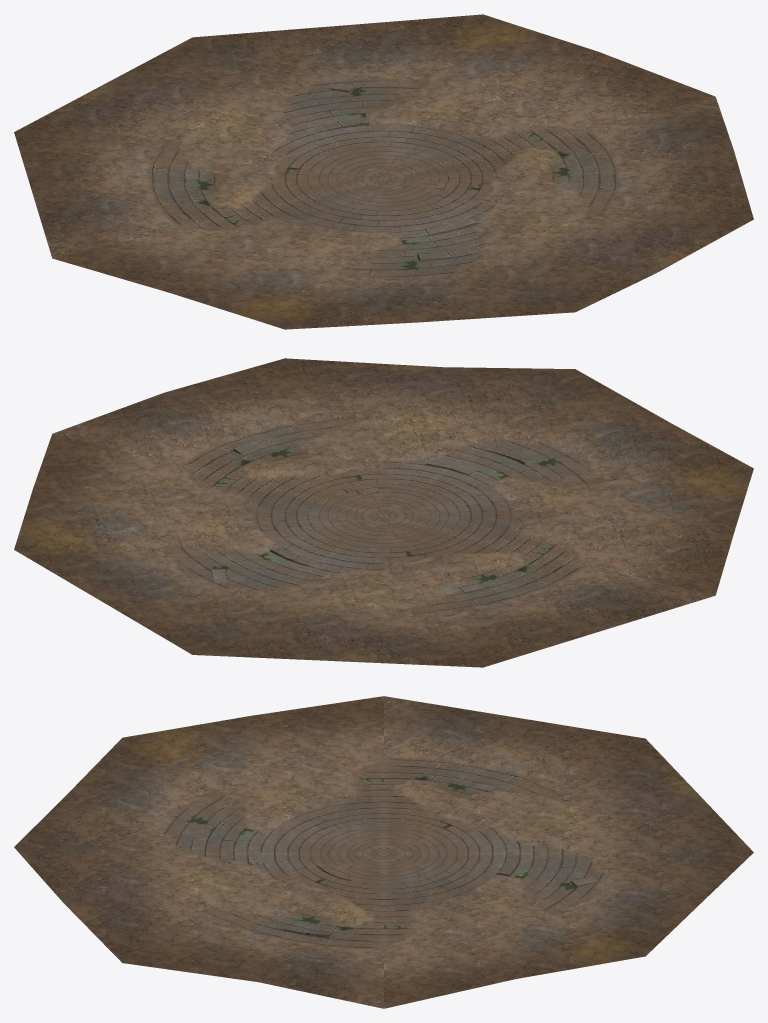
Rendered from Ground01_JingJiChang_Parts_001.FBX.
3 renders of one model, top to bottom at view 1: azimuth 30°, elevation 25°; view 2: azimuth 150°, elevation 25°; view 3: azimuth 270°, elevation 25°, orthographic. The views are drawn at different scales.
Visible parts, largest first — view 1: Ground01_JingJiChang_Parts_001; view 2: Ground01_JingJiChang_Parts_001; view 3: Ground01_JingJiChang_Parts_001.
Part boxes in pixels (<box>): Ground01_JingJiChang_Parts_001: <box>14,14,753,329</box>; Ground01_JingJiChang_Parts_001: <box>14,358,753,667</box>; Ground01_JingJiChang_Parts_001: <box>14,696,753,1008</box>.
Bounding box in the file's own units: 2112 × 38.12 × 2112.
Materials: 2 (2 with a texture image).
